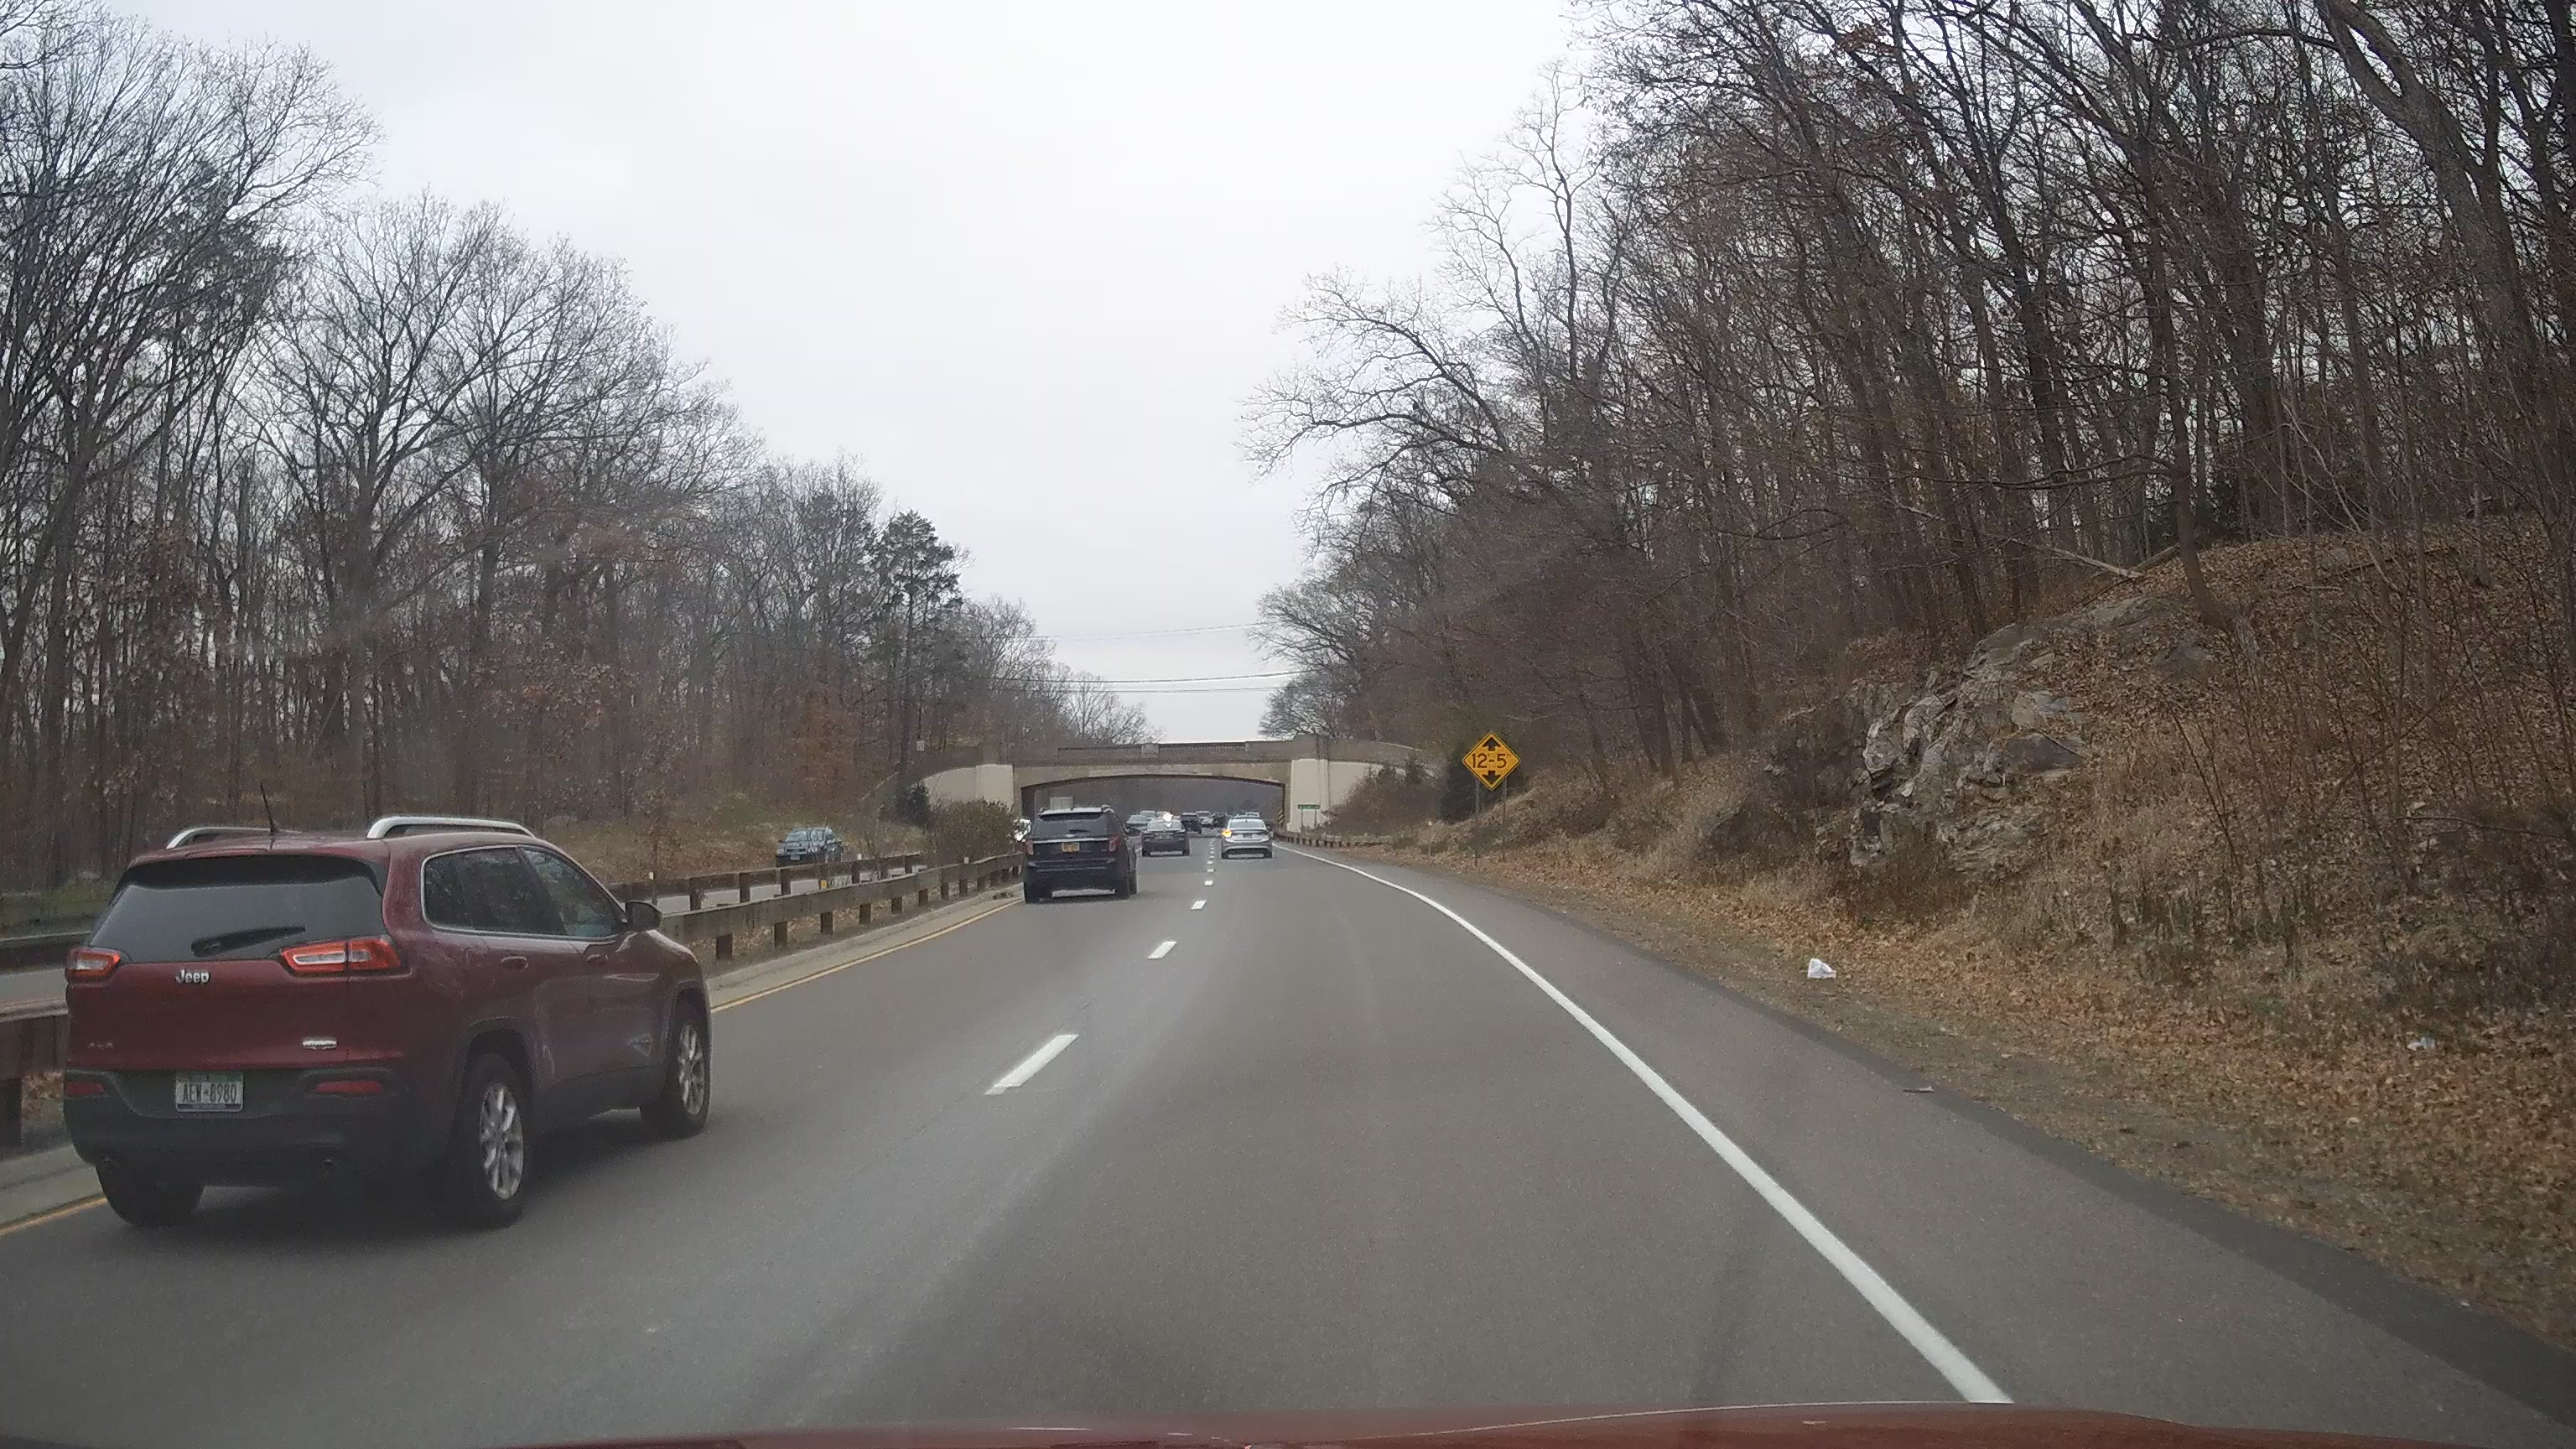low-clearance-sign: (1461, 731, 1522, 791)
